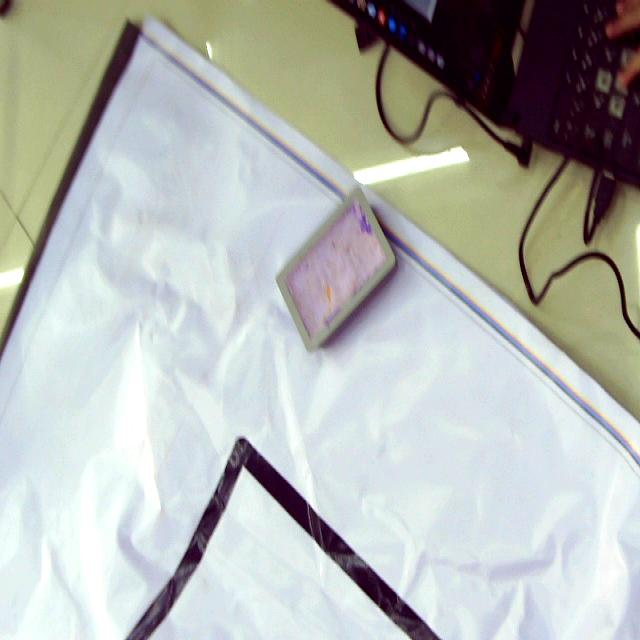block: (274, 179, 399, 348)
